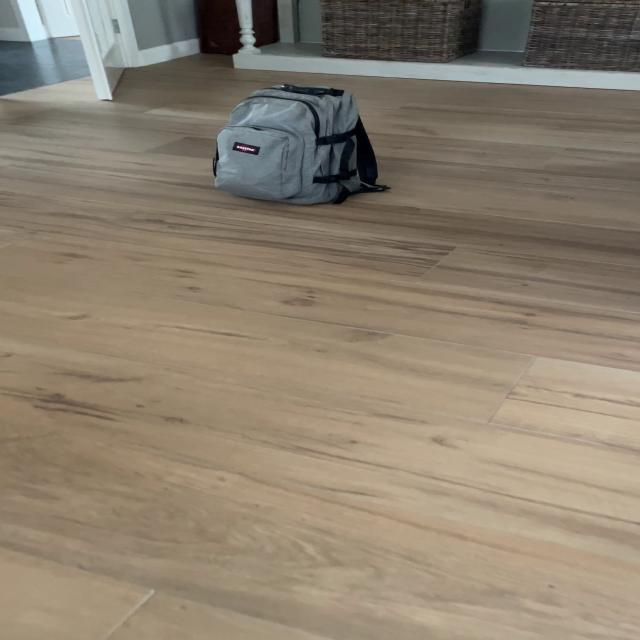backpack: (202, 79, 384, 210)
